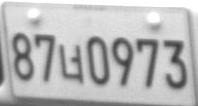0: (86, 35, 111, 85)
3: (162, 39, 188, 89)
7: (136, 38, 159, 88), (34, 33, 56, 82)
8: (11, 31, 34, 81)
9: (110, 36, 134, 87)
너: (58, 43, 84, 84)
